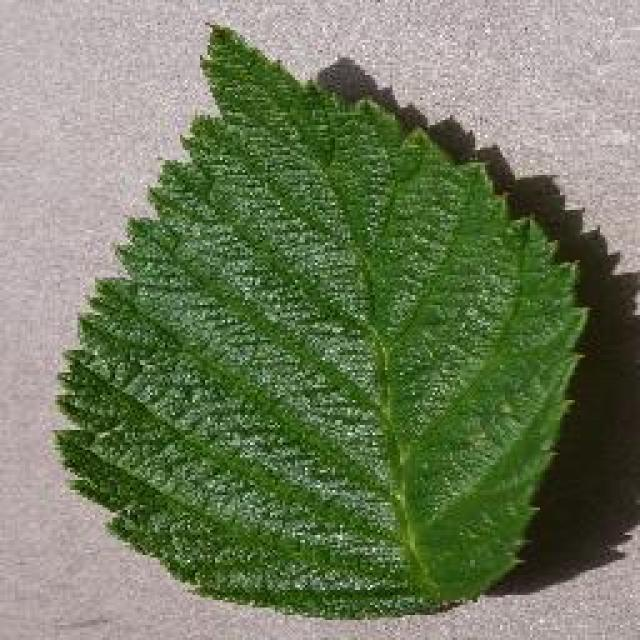Ras_healthy: (78, 110, 557, 576)
